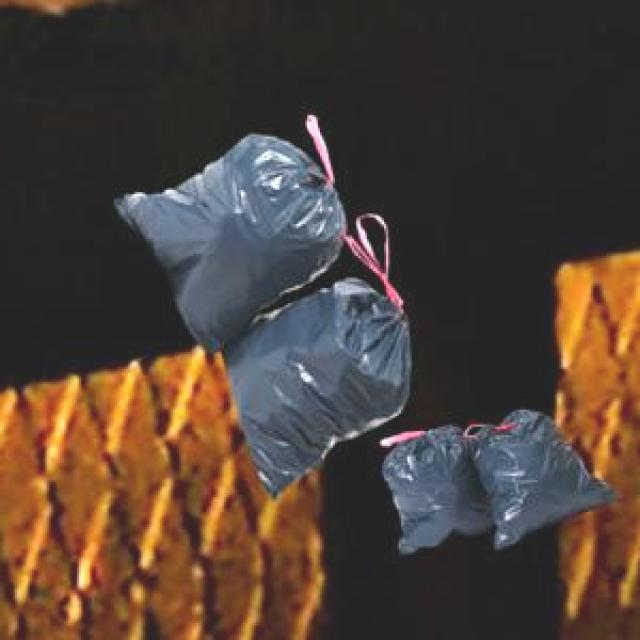Trashbag: (124, 128, 349, 332), (211, 275, 421, 485), (476, 406, 611, 556), (381, 415, 484, 555)
